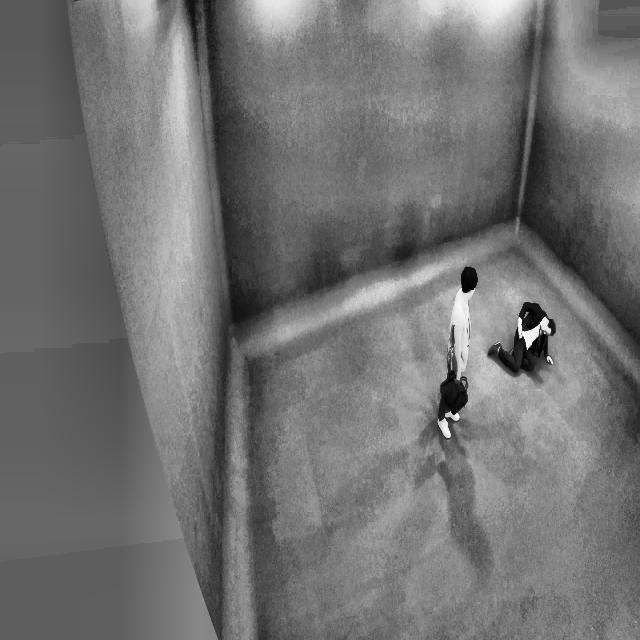assult: (438, 261, 560, 447), (490, 295, 556, 384)
